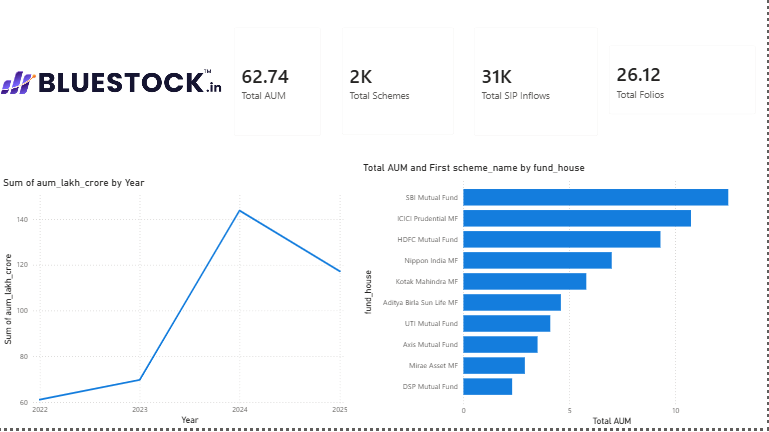

This screenshot's page, from the dashboard's own definition file:
{"tool":"powerbi","page":{"name":"Industry Overview","canvas":[1280,720],"ordinal":0},"visuals":[{"type":"cardVisual","fields":{"Data":["03_aum_by_fund_house.Total AUM"]},"box":[372.3,35.9,179.5,215.4],"z":0},{"type":"cardVisual","fields":{"Data":["04_monthly_sip_inflows.Total SIP Inflows"]},"box":[772.9,34,241.9,215.4],"z":1},{"type":"cardVisual","fields":{"Data":["06_industry_folio_count.Total Folios"]},"box":[997.8,66.1,279.7,149.3],"z":2},{"type":"cardVisual","fields":{"Data":["03_aum_by_fund_house.Total Schemes"]},"box":[551.8,35.9,221.1,213.5],"z":3},{"type":"lineChart","fields":{"Category":["03_aum_by_fund_house.date.Variation.Date Hierarchy.Year","03_aum_by_fund_house.date.Variation.Date Hierarchy.Quarter","03_aum_by_fund_house.date.Variation.Date Hierarchy.Month","03_aum_by_fund_house.date.Variation.Date Hierarchy.Day"],"Y":["Sum(03_aum_by_fund_house.aum_lakh_crore)"]},"box":[0,300.5,583.9,419.5],"z":4},{"type":"clusteredBarChart","fields":{"Category":["03_aum_by_fund_house.fund_house"],"Y":["03_aum_by_fund_house.Total AUM"]},"box":[599.1,274,678.4,446],"z":5},{"type":"image","box":[0,36,372,215],"z":6}]}

Visuals, with their boxes in screenshot pixels (x1, y1, x2, y2), scaled from the page's 1280x720 canvas onto the 769x432 screenshot:
cardVisual - 03_aum_by_fund_house.Total AUM: [224, 22, 332, 151]
cardVisual - 04_monthly_sip_inflows.Total SIP Inflows: [464, 20, 610, 150]
cardVisual - 06_industry_folio_count.Total Folios: [599, 40, 767, 129]
cardVisual - 03_aum_by_fund_house.Total Schemes: [332, 22, 464, 150]
lineChart - 03_aum_by_fund_house.date.Variation.Date Hierarchy.Year x 03_aum_by_fund_house.date.Variation.Date Hierarchy.Quarter: [0, 180, 351, 431]
clusteredBarChart - 03_aum_by_fund_house.fund_house x 03_aum_by_fund_house.Total AUM: [360, 164, 767, 431]
image: [0, 22, 223, 151]
